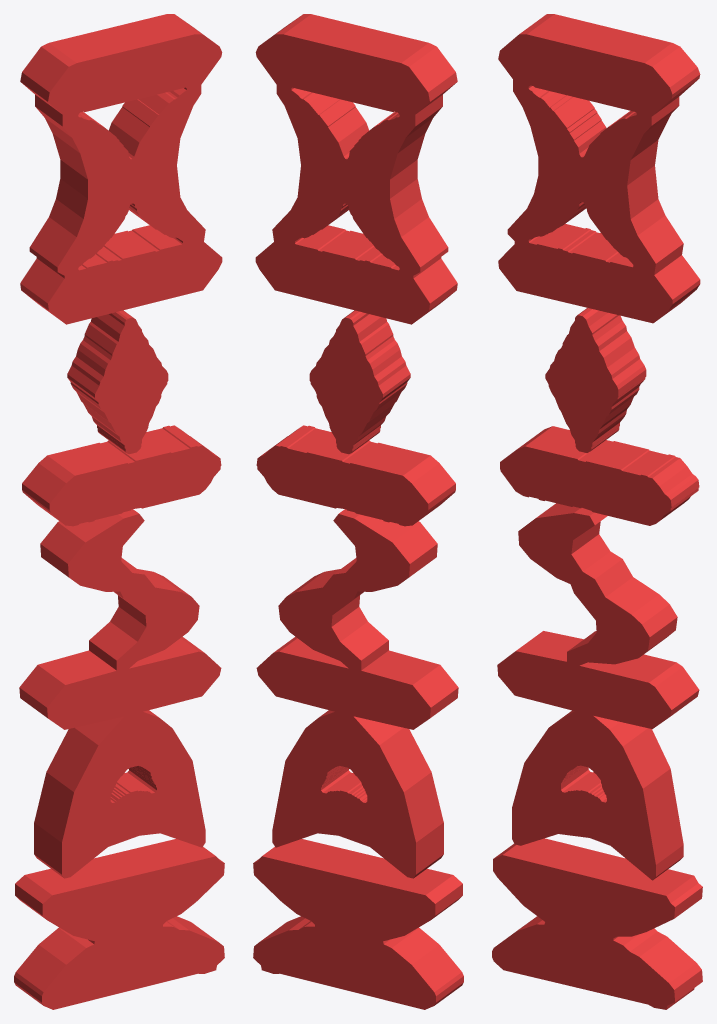
File: misa.glb
The picture shows the model from 3 angles, left to right: view 1: azimuth 30°, elevation 25°; view 2: azimuth 150°, elevation 25°; view 3: azimuth 330°, elevation 25°; orthographic projection.
Parts seen in each view (by area): view 1: world; view 2: world; view 3: world.
Part boxes in pixels (left/top/right/bottom): world: left=14, top=14, right=224, bottom=1009; world: left=253, top=14, right=463, bottom=1009; world: left=492, top=14, right=702, bottom=1009.
Size of the model in its own units: 0.0228 by 0.1123 by 0.006.
